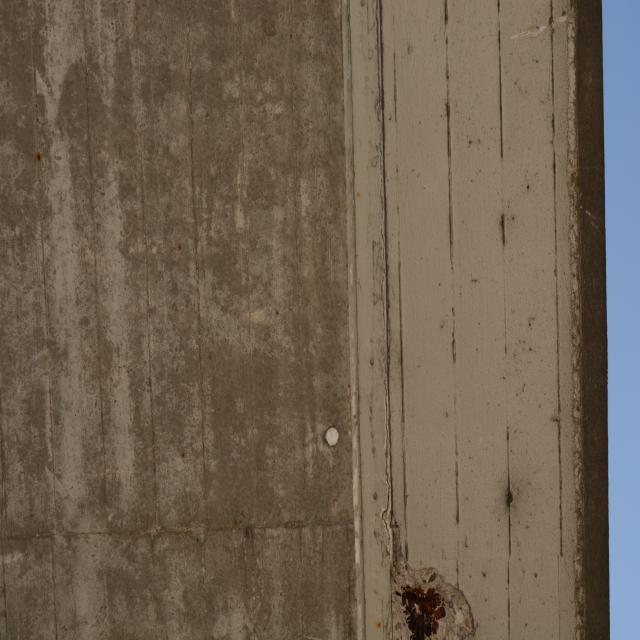corrosion: (398, 574, 450, 640)
